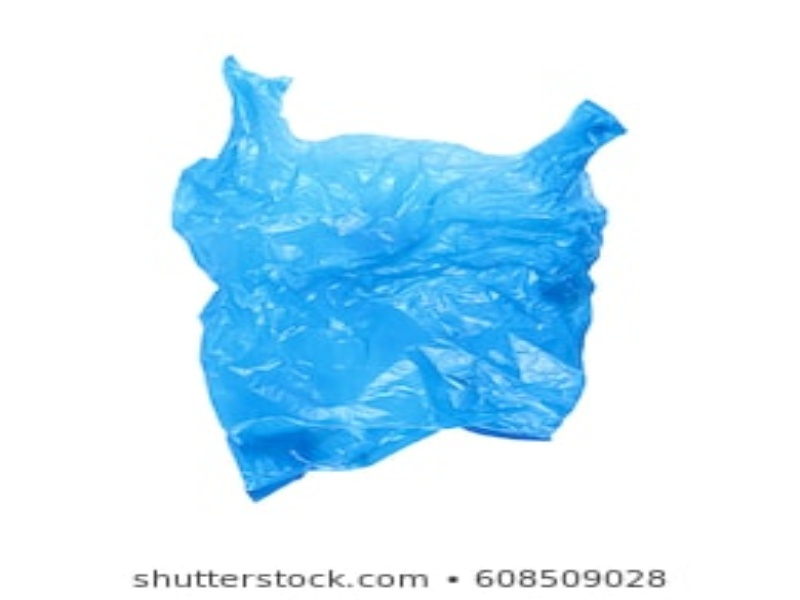plastic-bag: (169, 52, 628, 499)
